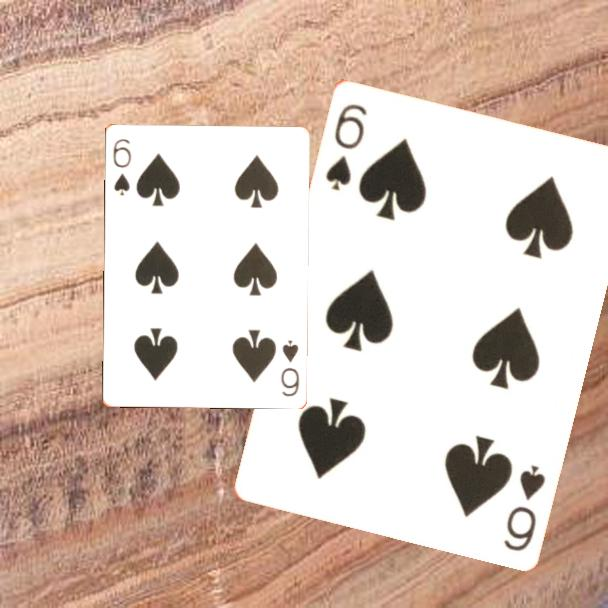s06: (321, 99, 370, 193), (500, 461, 548, 554), (277, 336, 302, 399), (109, 135, 133, 198)
